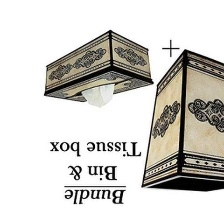tissue: (77, 79, 119, 112)
